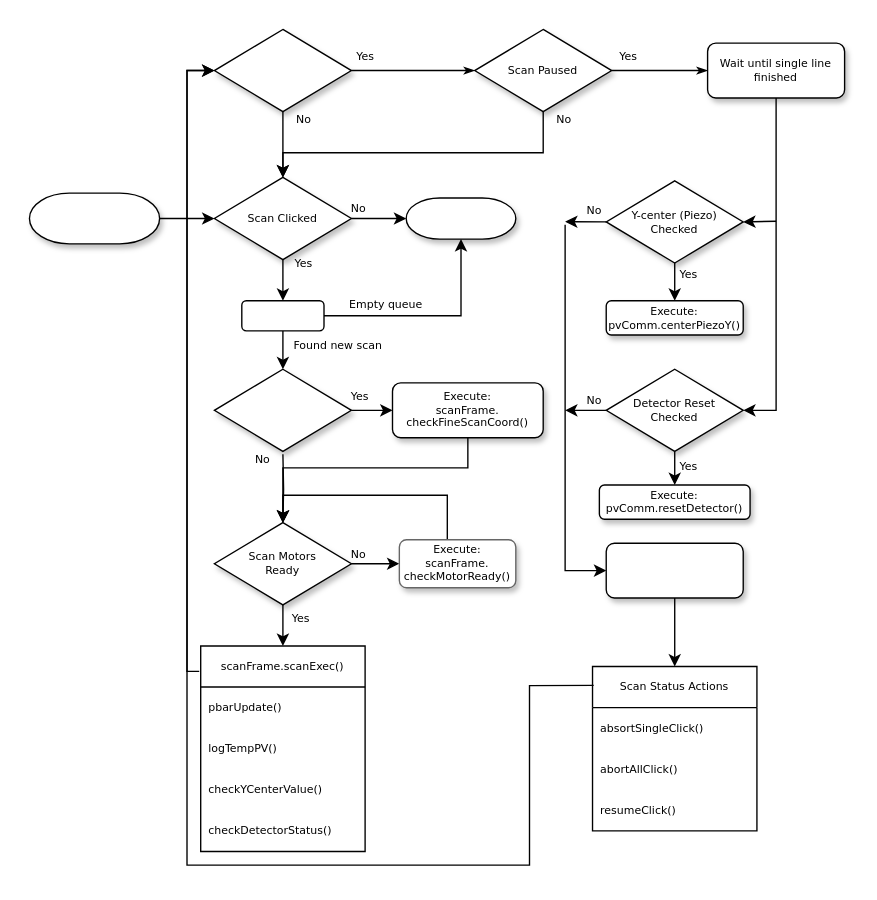
The diagram is 877 pixels wide and 900 high, and some of its shapes have lost their labels. The centre of each missing label's shape, as x and y in pixels:
Coarse-fine scanning mode: the point at 284,411
End (Waiting on the next event): the point at 461,220
Look for the next scan: the point at 282,315
Scan Executed: the point at 284,72
Start (Creating scan list of a batch of scans): the point at 95,219
Turn on bottoms (Abort, Abort Batch and Resume): the point at 675,572
